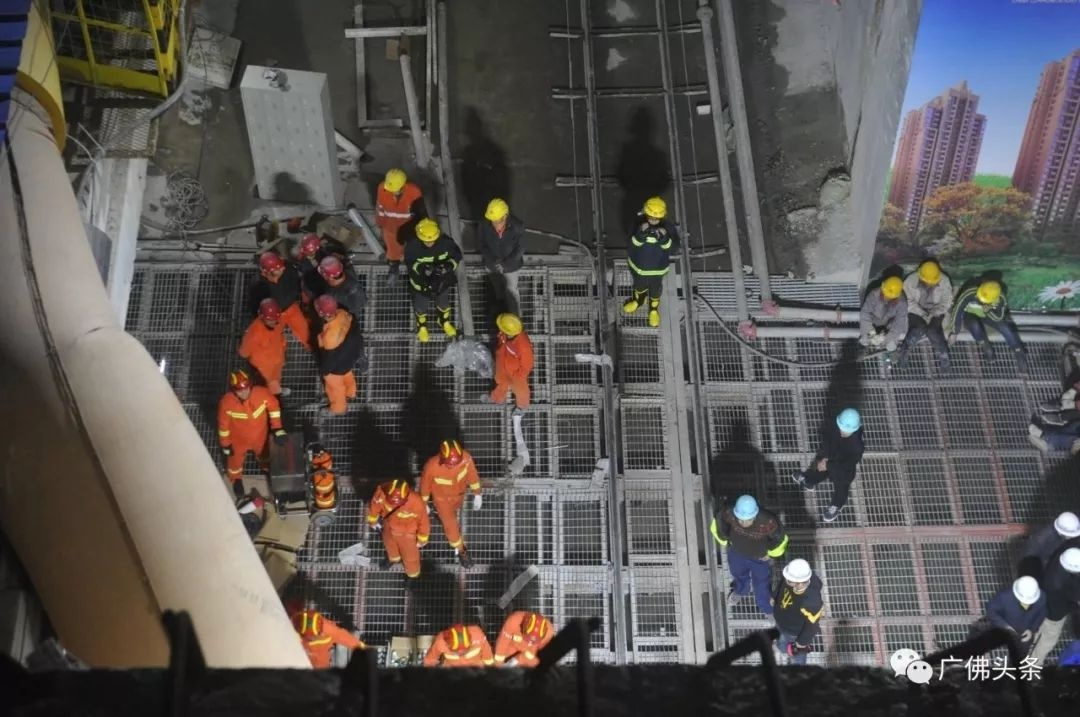blue: (829, 406, 863, 440), (731, 493, 760, 531)
red: (289, 608, 328, 644), (516, 607, 549, 647), (436, 437, 466, 474), (441, 621, 473, 655), (381, 476, 412, 511), (226, 366, 254, 402), (254, 296, 283, 330), (258, 249, 286, 281), (318, 254, 345, 284), (312, 292, 338, 322), (299, 233, 320, 260)
white: (1010, 572, 1043, 611), (780, 556, 813, 591), (1049, 508, 1080, 541), (1056, 545, 1080, 581)
yellow: (378, 167, 411, 199), (973, 275, 1003, 308), (639, 195, 669, 227), (483, 196, 511, 228), (496, 313, 525, 343), (415, 218, 441, 248), (879, 273, 905, 302), (917, 259, 941, 289)
